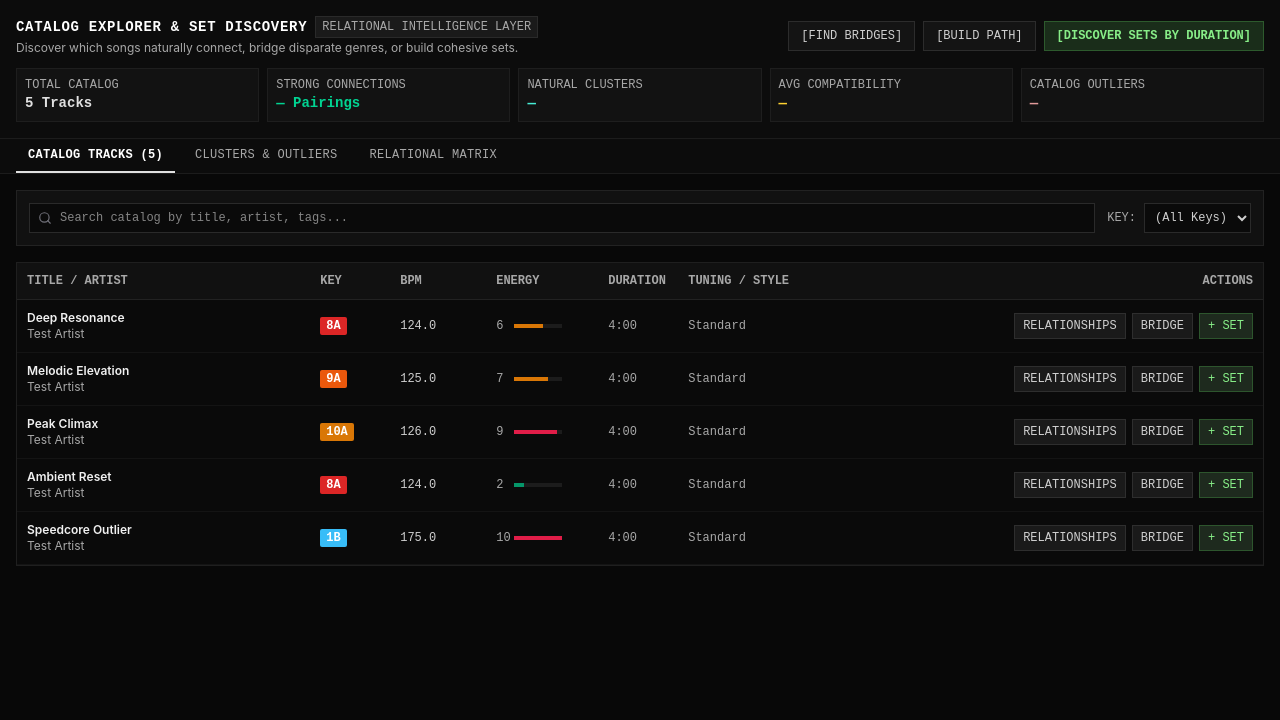
Test: CatalogExplorerView Component › opens DurationSetDiscoveryModal and discovers sets matching duration
This screenshot has width=1280, height=720.
Step 1. Click the button with test id "btn-duration-sets" → (1154, 36), box x1=1044 y1=21 x2=1264 y2=51
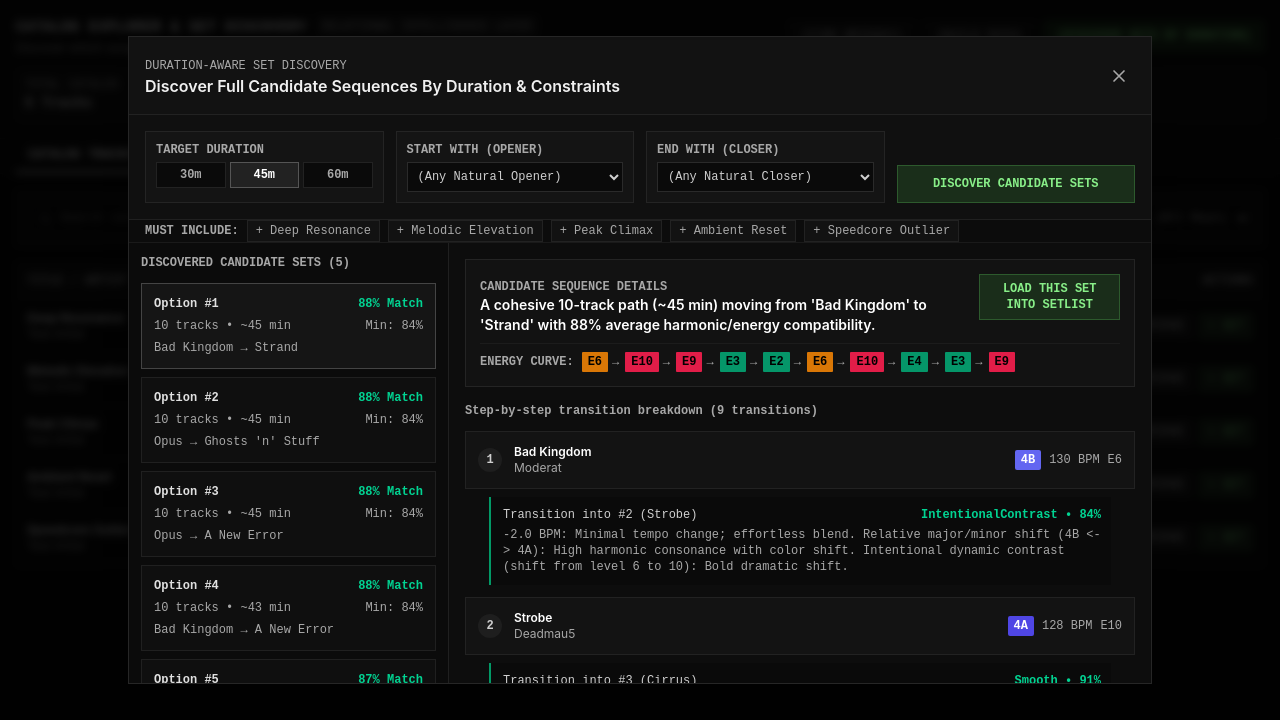
Now the element with test id "duration-discovery-modal" is shown
Now the text "DURATION-AWARE SET DISCOVERY" is shown, box x1=145 y1=59 x2=347 y2=73
